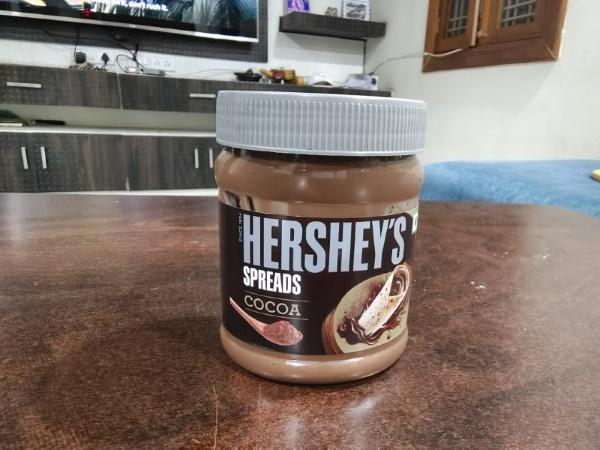Hershey-s: (200, 80, 430, 391)
